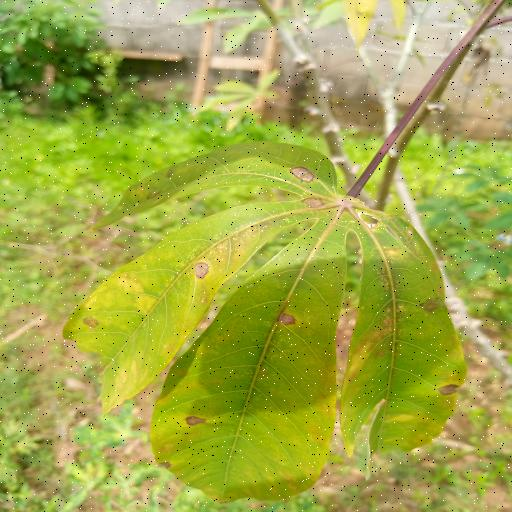Cassava_Mosaic: (63, 140, 473, 505)
